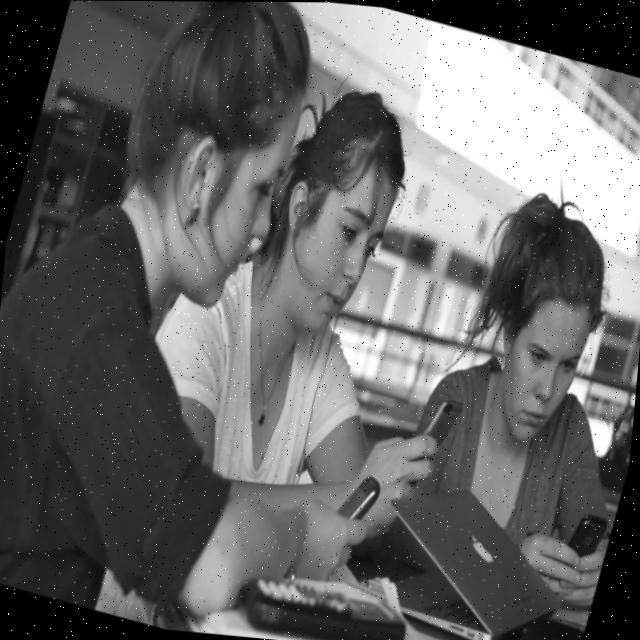phone: (416, 392, 464, 463), (334, 466, 384, 527), (564, 508, 610, 564)
